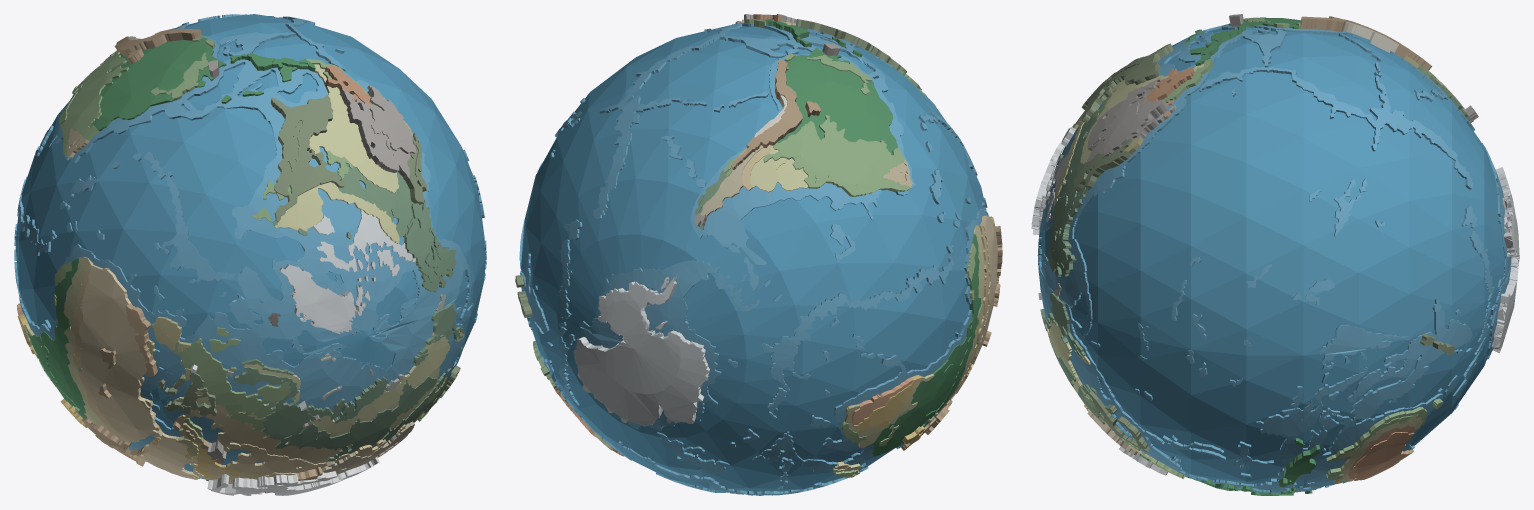
File: globe.glb
3 renders of one model, left to right at view 1: azimuth 30°, elevation 25°; view 2: azimuth 150°, elevation 25°; view 3: azimuth 270°, elevation 25°, orthographic.
Parts seen in each view (by area): view 1: water__deep_water__mid_ocean_r-1, water__shallow_water__shallow_ocean_r2, africa__sahara__desert_r5, south_america__amazon_basin__dark_forest_r19, asia__siberian_taiga__light_forest_r0, north_america__appalachians__forest_r6, europe__central_europe__forest_r0, water__shallow_water__shallow_ocean_r16, north_america__great_plains__grassland_r1, asia__asia_grassland_2__grassland_2_r0, north_america__greenland__ice_r2, south_america__atlantic_forest__forest_r40 (+29 smaller); view 2: water__deep_water__mid_ocean_r-1, antarctica__east_antarctica__ice_r6, south_america__amazon_basin__dark_forest_r19, water__shallow_water__shallow_ocean_r47, south_america__atlantic_forest__forest_r40, water__shallow_water__shallow_ocean_r37, water__shallow_water__shallow_ocean_r25, africa__congo_basin__forest_r34, water__shallow_water__shallow_ocean_r89, water__shallow_water__shallow_ocean_r71, water__shallow_water__shallow_ocean_r2, south_america__altiplano__savanna_r19 (+16 smaller); view 3: water__deep_water__mid_ocean_r-1, water__shallow_water__shallow_ocean_r6, water__shallow_water__shallow_ocean_r2, water__shallow_water__shallow_ocean_r71, antarctica__east_antarctica__ice_r6, north_america__appalachians__forest_r6, oceania__central_australian_desert__desert_r16, north_america__rocky_mountains__desert_r3, water__shallow_water__shallow_ocean_r35, water__shallow_water__shallow_ocean_r47, south_america__altiplano__savanna_r19, north_america__rocky_mountains__steppe_r0 (+13 smaller).
Boxes of the visible parts, left/top/right/bottom form: water__deep_water__mid_ocean_r-1: left=15, top=14, right=485, bottom=479; water__shallow_water__shallow_ocean_r2: left=70, top=32, right=471, bottom=419; africa__sahara__desert_r5: left=78, top=264, right=157, bottom=442; south_america__amazon_basin__dark_forest_r19: left=90, top=37, right=226, bottom=131; asia__siberian_taiga__light_forest_r0: left=262, top=376, right=443, bottom=461; north_america__appalachians__forest_r6: left=271, top=95, right=346, bottom=222; europe__central_europe__forest_r0: left=172, top=341, right=291, bottom=430; water__shallow_water__shallow_ocean_r16: left=56, top=244, right=191, bottom=421; north_america__great_plains__grassland_r1: left=309, top=86, right=398, bottom=192; asia__asia_grassland_2__grassland_2_r0: left=300, top=336, right=450, bottom=437; north_america__greenland__ice_r2: left=279, top=264, right=355, bottom=331; south_america__atlantic_forest__forest_r40: left=60, top=51, right=128, bottom=158; water__deep_water__mid_ocean_r-1: left=521, top=25, right=985, bottom=495; antarctica__east_antarctica__ice_r6: left=573, top=276, right=709, bottom=425; south_america__amazon_basin__dark_forest_r19: left=777, top=47, right=897, bottom=155; water__shallow_water__shallow_ocean_r47: left=573, top=260, right=721, bottom=430; south_america__atlantic_forest__forest_r40: left=763, top=115, right=910, bottom=195; water__shallow_water__shallow_ocean_r37: left=690, top=141, right=881, bottom=264; water__shallow_water__shallow_ocean_r25: left=752, top=310, right=972, bottom=472; africa__congo_basin__forest_r34: left=865, top=234, right=981, bottom=456; water__shallow_water__shallow_ocean_r89: left=761, top=256, right=954, bottom=390; water__shallow_water__shallow_ocean_r71: left=593, top=23, right=741, bottom=218; water__shallow_water__shallow_ocean_r2: left=719, top=23, right=935, bottom=188; south_america__altiplano__savanna_r19: left=731, top=59, right=802, bottom=169; water__deep_water__mid_ocean_r-1: left=1040, top=27, right=1504, bottom=489; water__shallow_water__shallow_ocean_r6: left=1059, top=298, right=1472, bottom=492; water__shallow_water__shallow_ocean_r2: left=1038, top=24, right=1286, bottom=319; water__shallow_water__shallow_ocean_r71: left=1199, top=66, right=1473, bottom=189; antarctica__east_antarctica__ice_r6: left=1491, top=167, right=1519, bottom=352; north_america__appalachians__forest_r6: left=1081, top=43, right=1173, bottom=122; oceania__central_australian_desert__desert_r16: left=1353, top=432, right=1414, bottom=480; north_america__rocky_mountains__desert_r3: left=1103, top=99, right=1168, bottom=156; water__shallow_water__shallow_ocean_r35: left=1319, top=324, right=1410, bottom=354; water__shallow_water__shallow_ocean_r47: left=1482, top=143, right=1511, bottom=359; south_america__altiplano__savanna_r19: left=1300, top=16, right=1431, bottom=70; north_america__rocky_mountains__steppe_r0: left=1087, top=78, right=1161, bottom=150.
Bounding box in the file's own units: 100 × 101 × 103.
